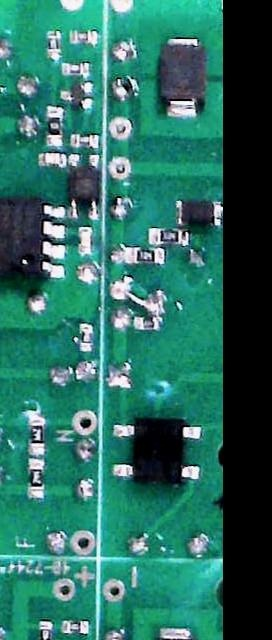chip-capacitor: (78, 226, 92, 254), (40, 152, 66, 165)
chip-resistor: (148, 226, 191, 245), (28, 457, 45, 496), (47, 105, 64, 143), (125, 246, 165, 262), (28, 417, 45, 454), (48, 29, 62, 59), (133, 314, 159, 330), (70, 29, 98, 43), (62, 61, 90, 75), (80, 322, 94, 350), (63, 618, 89, 632), (71, 133, 98, 146), (39, 618, 52, 640)
diode: (157, 35, 207, 118), (176, 198, 223, 225)
ic: (112, 416, 200, 483), (0, 195, 67, 278), (68, 151, 100, 218)
transistor: (60, 80, 93, 108)
